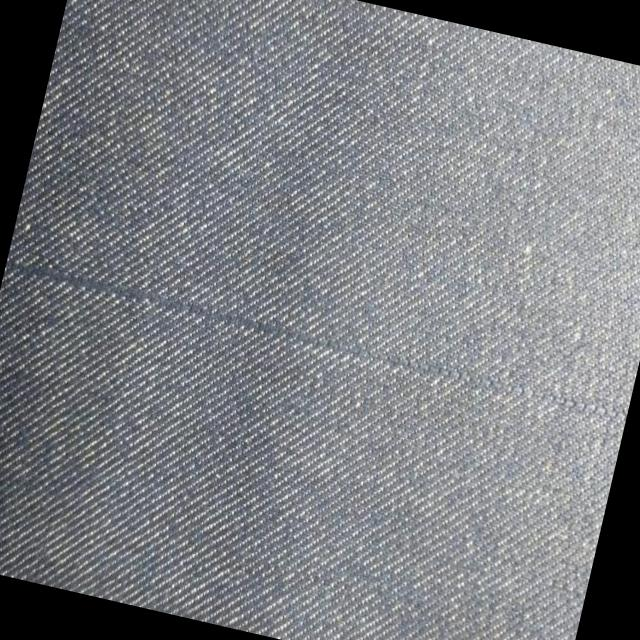Warp_Weft: (1, 256, 630, 422)
